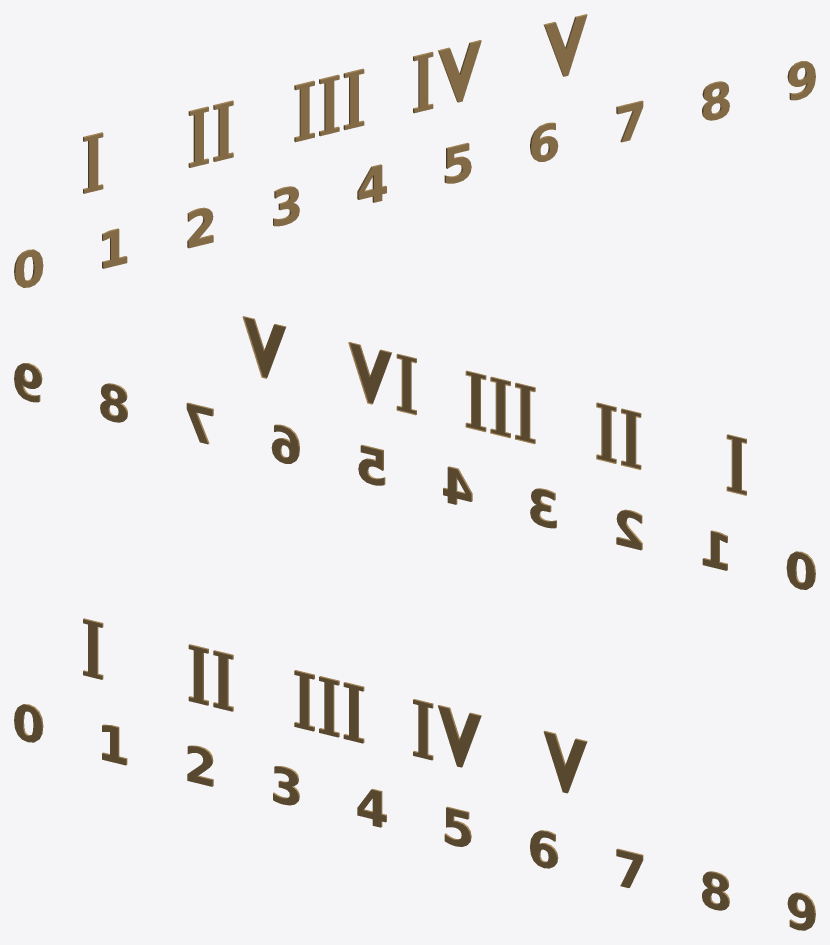
Rendered from shared_numerals.glb.
The picture shows the model from 3 angles, top to bottom: view 1: azimuth 30°, elevation 25°; view 2: azimuth 150°, elevation 25°; view 3: azimuth 330°, elevation 25°; orthographic projection.
Parts seen in each view (by area): view 1: num_III, num_IV, num_II, num_V, dig_8, dig_0, dig_9, dig_6, num_I, dig_4, dig_5, dig_3 (+3 smaller); view 2: num_III, num_IV, num_II, num_V, dig_8, dig_0, dig_9, dig_6, num_I, dig_4, dig_5, dig_3 (+3 smaller); view 3: num_III, num_IV, num_II, num_V, dig_8, dig_0, dig_9, dig_6, num_I, dig_5, dig_4, dig_3 (+1 smaller).
Boxes of the visible parts, <box> form: num_III: <box>294,68,364,142</box>; num_IV: <box>413,40,481,113</box>; num_II: <box>188,100,233,167</box>; num_V: <box>543,14,587,76</box>; dig_8: <box>702,81,729,120</box>; dig_0: <box>14,249,43,287</box>; dig_9: <box>787,61,815,100</box>; dig_6: <box>530,122,558,161</box>; num_I: <box>83,132,103,193</box>; dig_4: <box>357,164,386,202</box>; dig_5: <box>444,142,471,183</box>; dig_3: <box>273,186,299,226</box>; num_III: <box>465,370,535,444</box>; num_IV: <box>348,342,416,415</box>; num_II: <box>596,402,641,469</box>; num_V: <box>242,316,286,378</box>; dig_8: <box>100,383,127,422</box>; dig_0: <box>786,551,815,589</box>; dig_9: <box>14,363,42,402</box>; dig_6: <box>271,424,299,463</box>; num_I: <box>726,434,746,495</box>; dig_4: <box>443,466,472,504</box>; dig_5: <box>358,444,385,485</box>; dig_3: <box>530,488,556,528</box>; num_III: <box>294,670,364,743</box>; num_IV: <box>413,699,481,767</box>; num_II: <box>188,644,233,711</box>; num_V: <box>543,730,587,793</box>; dig_8: <box>702,871,729,910</box>; dig_0: <box>14,704,43,742</box>; dig_9: <box>787,892,815,930</box>; dig_6: <box>530,830,558,868</box>; num_I: <box>83,618,103,679</box>; dig_5: <box>444,806,471,846</box>; dig_4: <box>357,788,386,827</box>; dig_3: <box>273,766,299,805</box>.
Bounding box in the file's own units: 3.73 × 0.6076 × 0.01.
